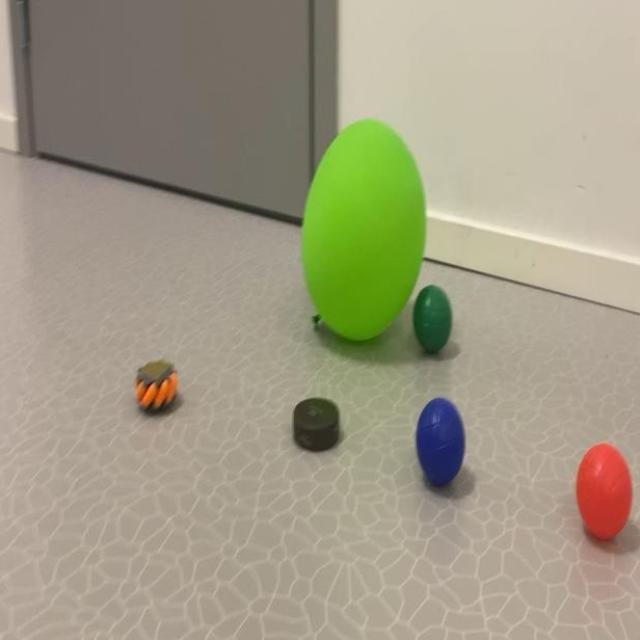blue ball: (417, 404, 471, 490)
green ball: (417, 286, 456, 360)
red ball: (568, 447, 639, 549)
